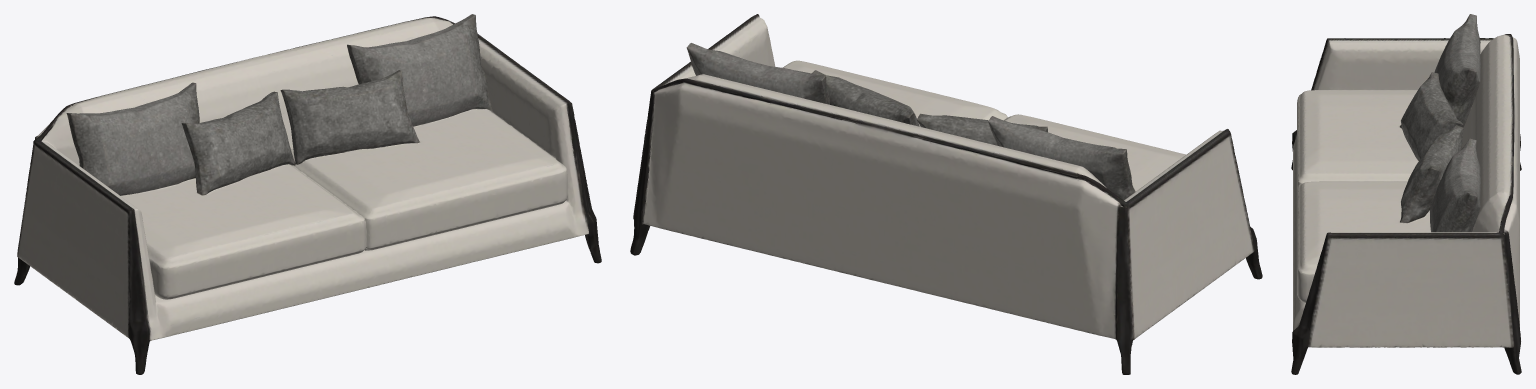
Rendered from 24_框架双人沙发.glb.
3 renders of one model, left to right at view 1: azimuth 30°, elevation 25°; view 2: azimuth 150°, elevation 25°; view 3: azimuth 270°, elevation 25°, orthographic. The views are drawn at different scales.
Parts seen in each view (by area): view 1: world; view 2: world; view 3: world.
Boxes of the visible parts, x1,y1,x2,y2 form: world: (14, 14, 601, 374); world: (630, 14, 1262, 374); world: (1291, 14, 1521, 374).
Size of the model in its own units: 1 by 0.3784 by 0.4707.
Materials: 1 (1 with a texture image).
